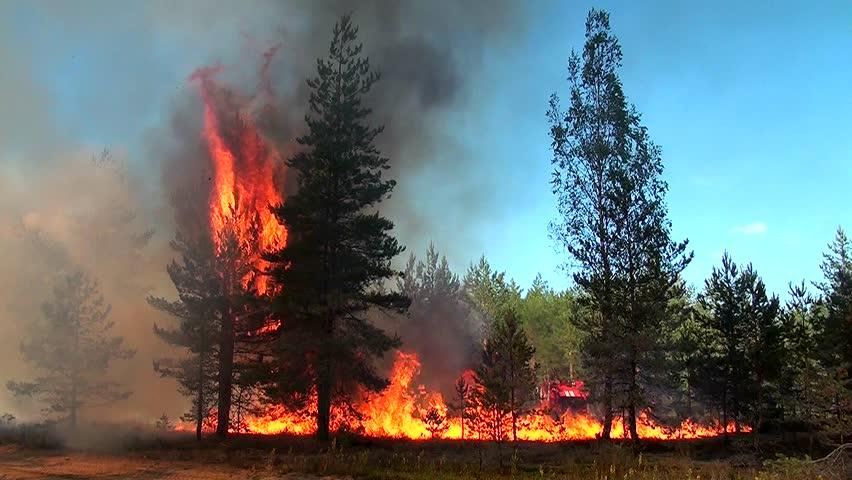fire: (211, 161, 286, 263), (361, 366, 420, 435), (245, 408, 316, 434), (522, 415, 598, 439)
smoke: (371, 8, 461, 96)
